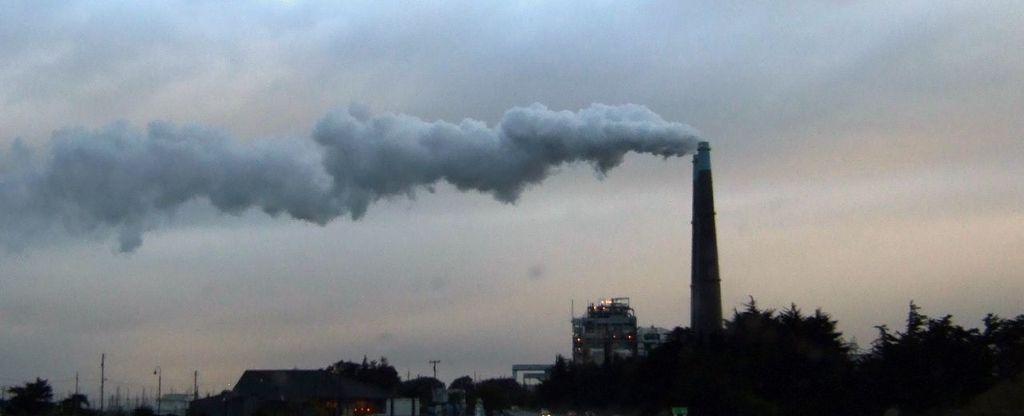Tree: (327, 292, 1024, 416), (0, 374, 90, 416)
